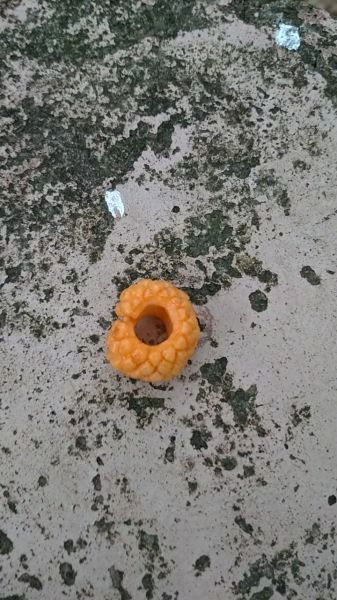eggs: (99, 268, 204, 389)
